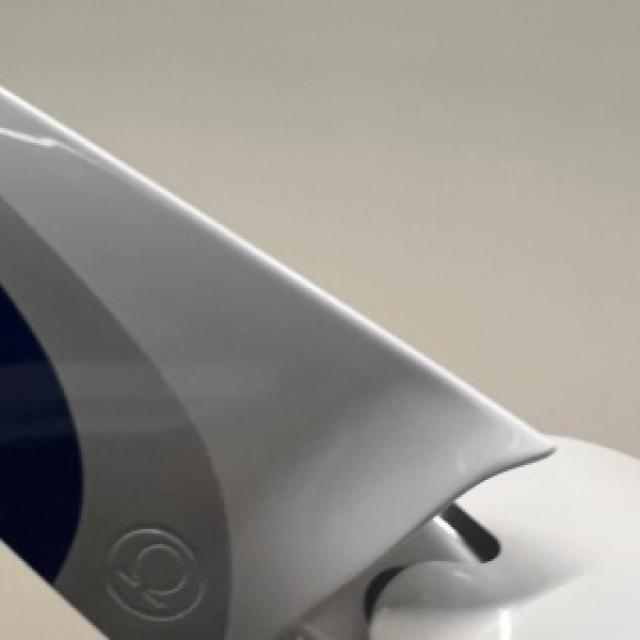healthy: (0, 87, 638, 638), (518, 570, 638, 638)
